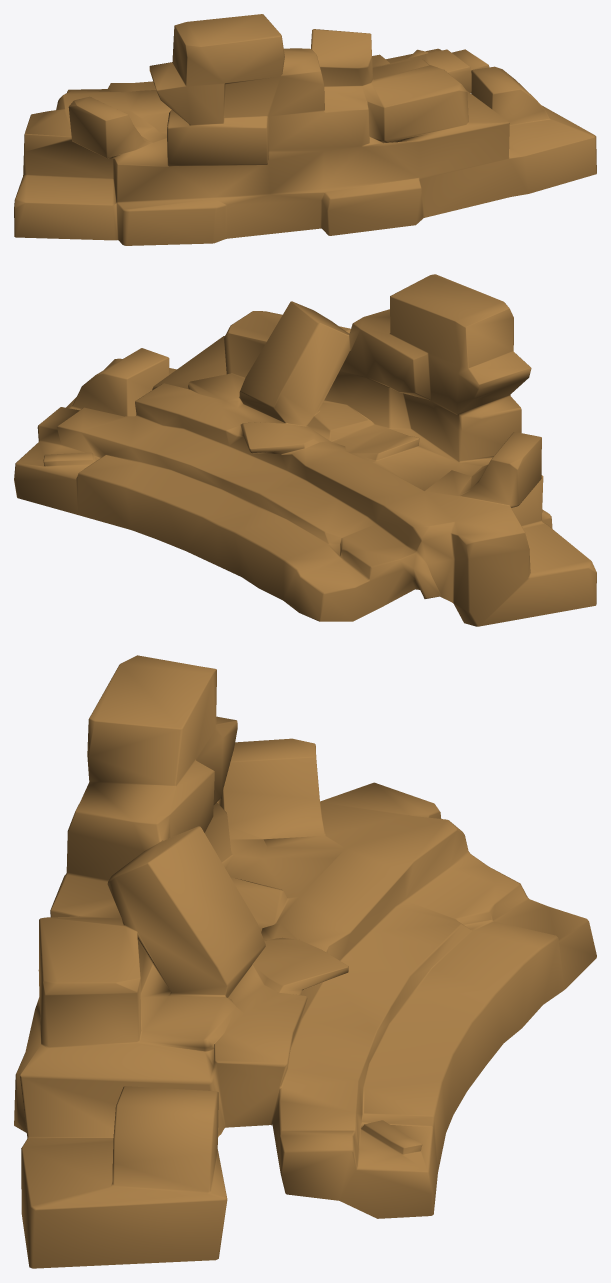
Rendered from Well_Steps_movable.FBX.
3 renders of one model, top to bottom at view 1: azimuth 30°, elevation 25°; view 2: azimuth 150°, elevation 25°; view 3: azimuth 270°, elevation 25°, orthographic. The views are drawn at different scales.
Parts seen in each view (by area): view 1: Well_Steps_movable_LOD0; view 2: Well_Steps_movable_LOD0; view 3: Well_Steps_movable_LOD0.
Part boxes in pixels (x1=…): Well_Steps_movable_LOD0: x1=14, y1=14, x2=596, y2=245; Well_Steps_movable_LOD0: x1=14, y1=274, x2=596, y2=626; Well_Steps_movable_LOD0: x1=14, y1=655, x2=596, y2=1268.
Size of what is drawn, in the model's own units: 4691 by 1776 by 2931.
